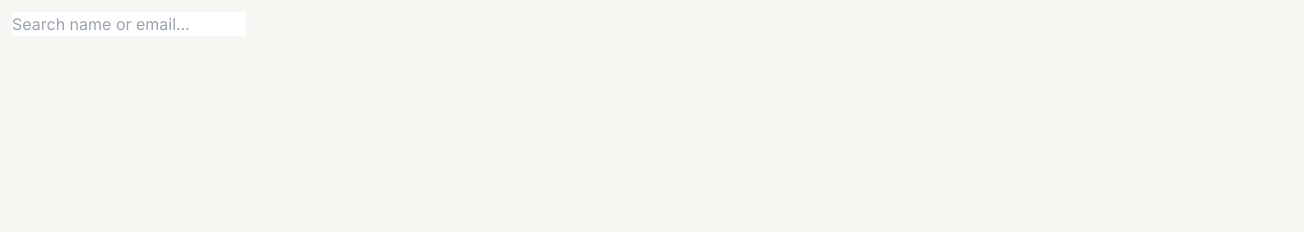
it: ContactEmailAutocomplete keyboard and filtering › submits on Enter when no suggestion is highlighted
Later steps or results of the test are not shown.
Step 1. Type "al" into the dropdown labelled "email" → [129, 24], box left=12, top=12, right=246, bottom=36
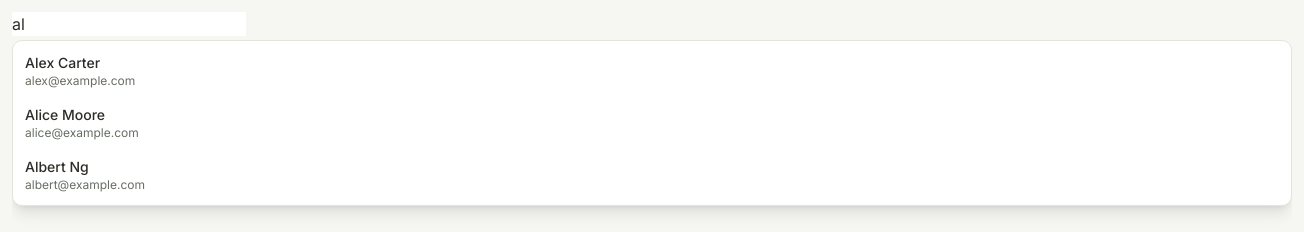
Expected: the list is shown
